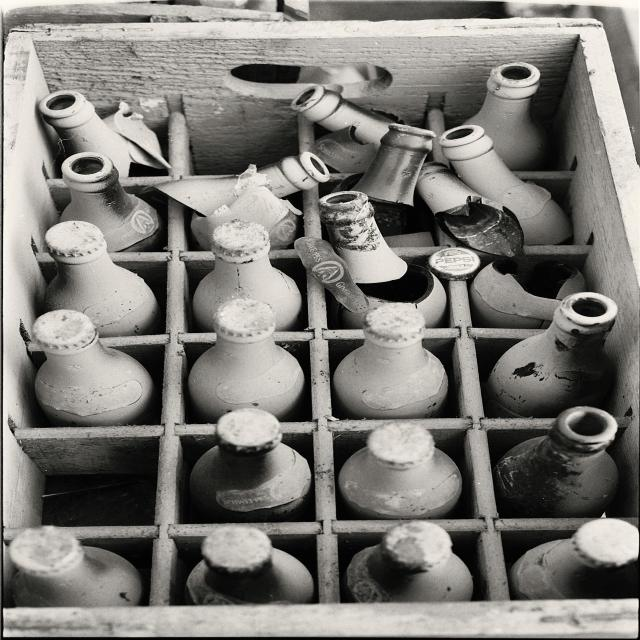electronic: (26, 55, 640, 597)
